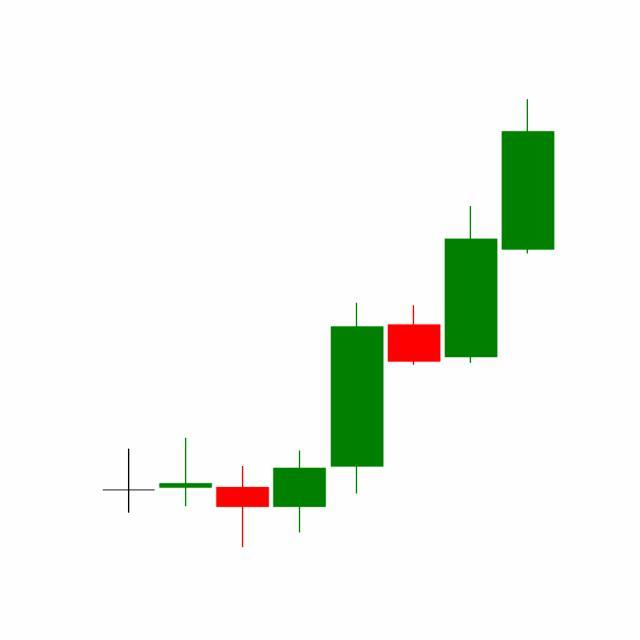Hikkake Pattern: (214, 202, 501, 548)
